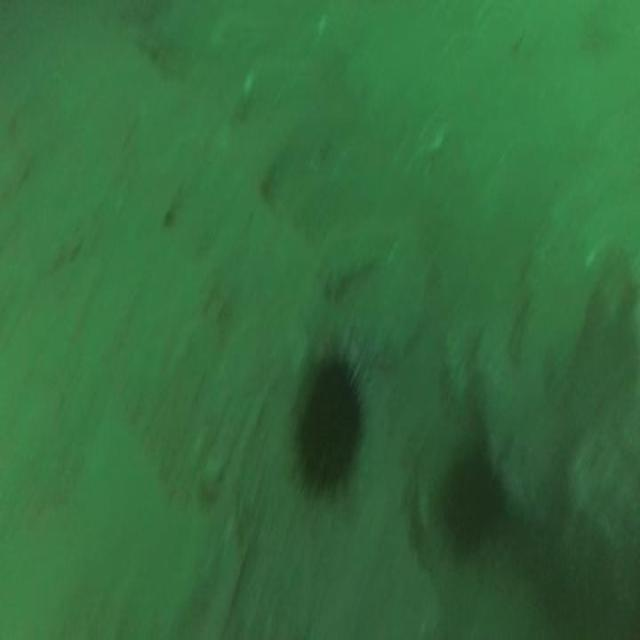echinus: (290, 346, 364, 506), (437, 428, 504, 560)
